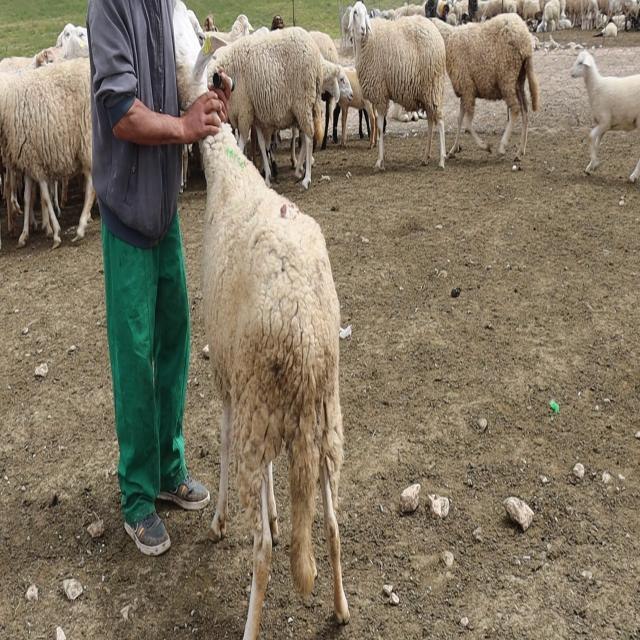Score_1: (200, 122, 350, 639)
